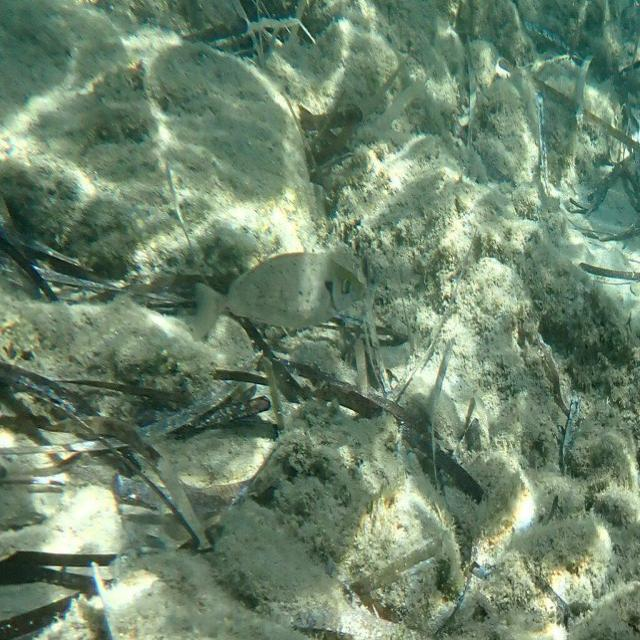Sokar Baligi: (184, 243, 372, 349)
